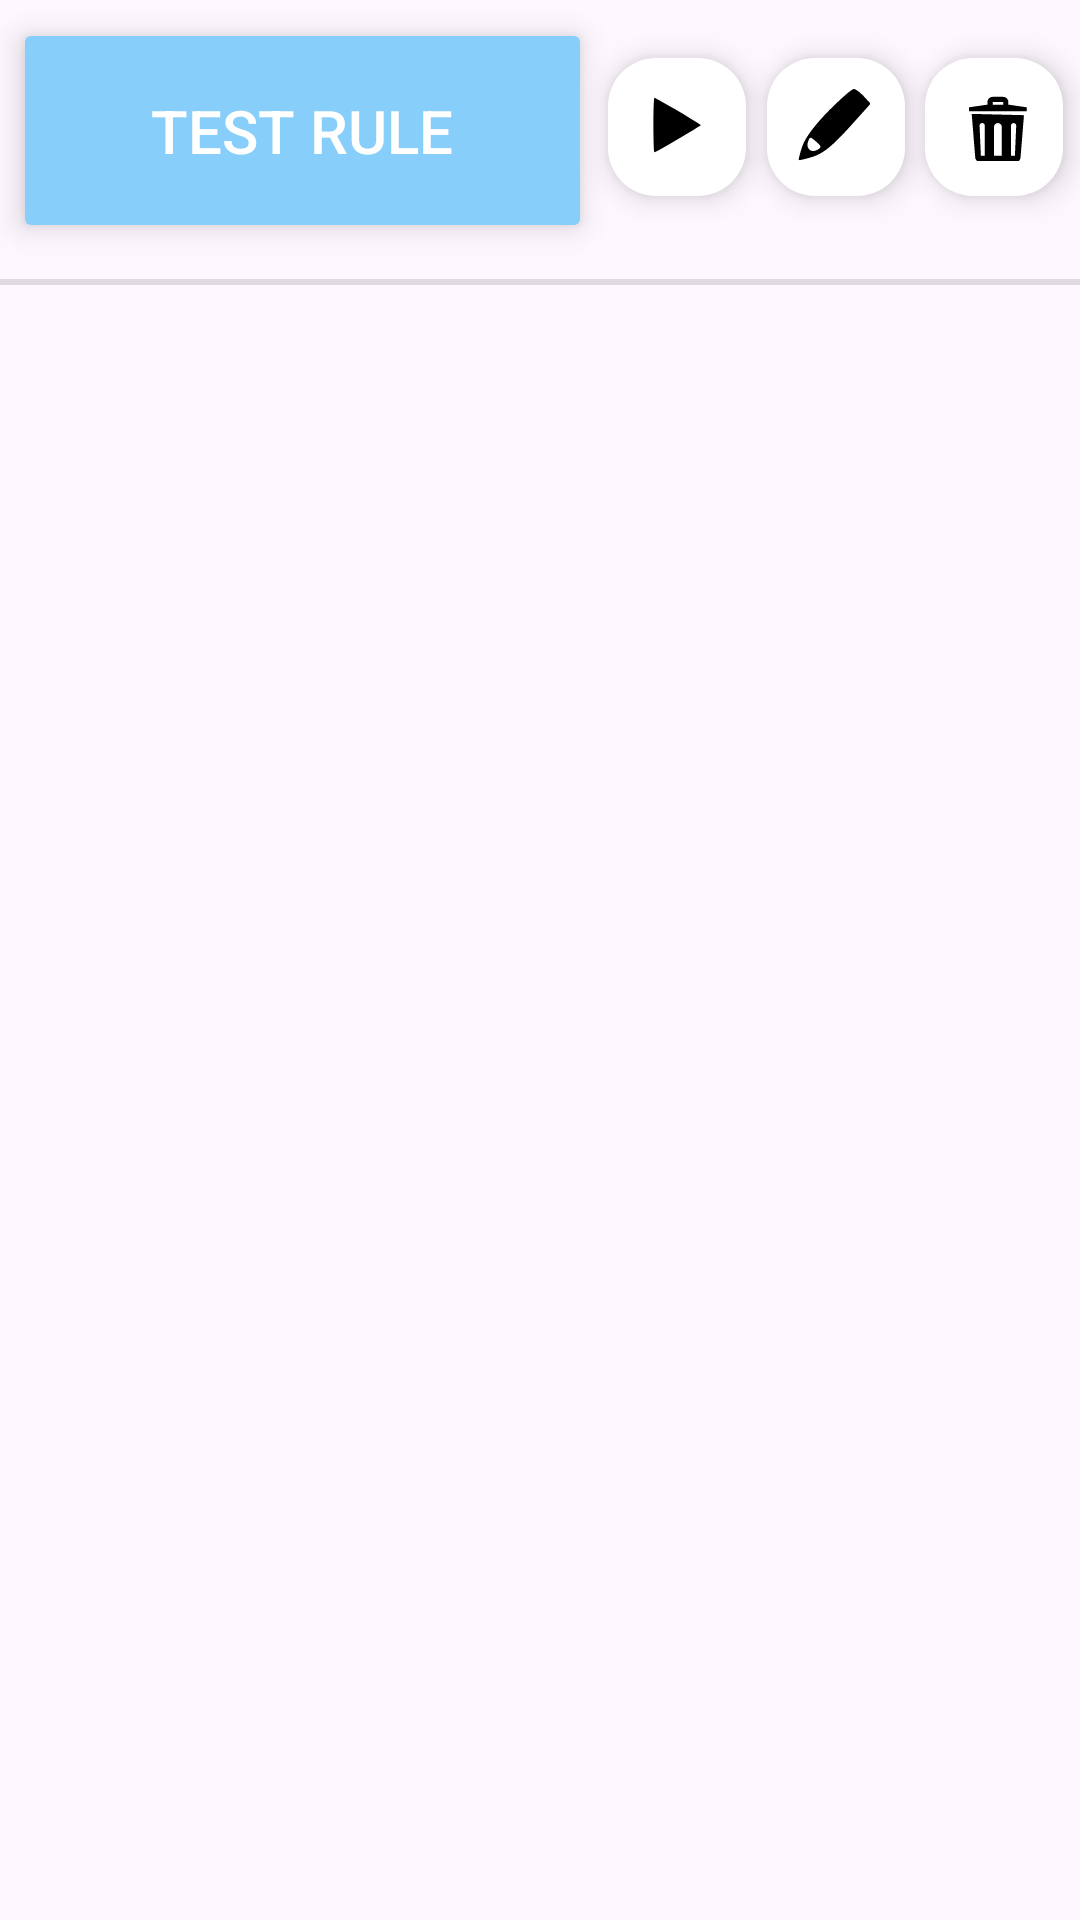

Named icons in this screenshot (1080px×1920px) and their centers, point (x, y):
Attivare la regola?: point (677, 127)
Delete rule: point (994, 127)
Edit rule: point (836, 127)
